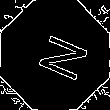N_NW: (24, 27, 86, 83)
